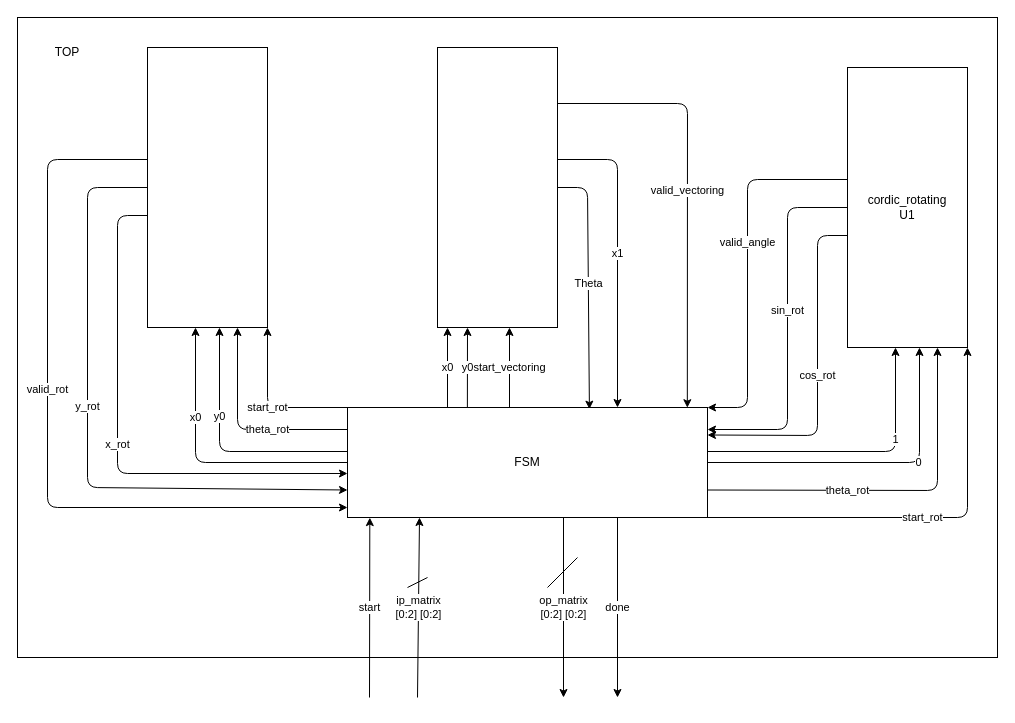
Image size: 1015x723. Some labels were removed from this diagram. Here are the shapes that lost their labels. From the top down, the centre of each, then its label:
At (207,187): "cordic_rotating U0".
At (497,187): "Cordic_Vectoring".
